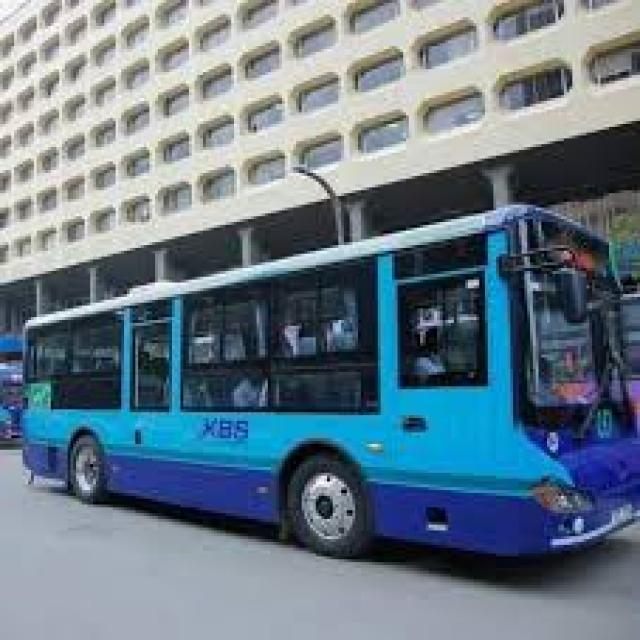bus: (17, 190, 640, 580)
